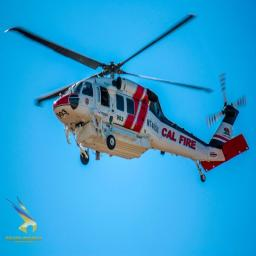helicopter: (24, 24, 250, 176)
